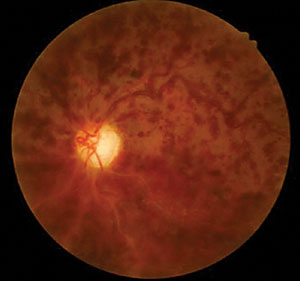Glaucoma section-1: (98, 134, 115, 155)
Glaucoma section-2: (74, 122, 122, 168)
